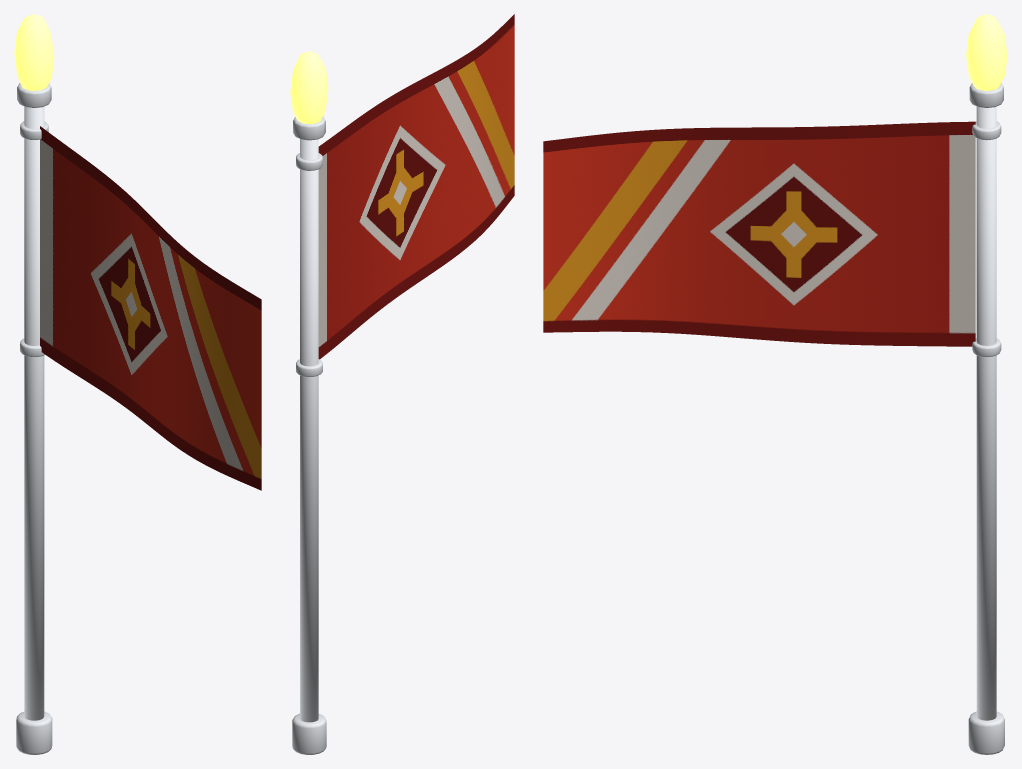
File: flag_red.glb
The picture shows the model from 3 angles, left to right: view 1: azimuth 30°, elevation 25°; view 2: azimuth 150°, elevation 25°; view 3: azimuth 270°, elevation 25°; orthographic projection. The views are drawn at different scales.
Parts seen in each view (by area): view 1: FlagCloth, PoleShaft, FinialDiamond, PoleBaseCollar, FinialBase; view 2: FlagCloth, PoleShaft, FinialDiamond, PoleBaseCollar, FinialBase; view 3: FlagCloth, PoleShaft, FinialDiamond, PoleBaseCollar.
Part boxes in pixels (box(x1,y1,x2,y2)): FlagCloth: box(40, 126, 261, 490); PoleShaft: box(24, 106, 44, 720); FinialDiamond: box(14, 14, 54, 90); PoleBaseCollar: box(16, 711, 52, 754); FinialBase: box(17, 83, 51, 107); FlagCloth: box(318, 14, 514, 359); PoleShaft: box(300, 139, 318, 722); FinialDiamond: box(290, 51, 328, 124); PoleBaseCollar: box(292, 713, 326, 754); FinialBase: box(293, 116, 325, 140); FlagCloth: box(543, 121, 975, 346); PoleShaft: box(976, 106, 996, 720); FinialDiamond: box(966, 14, 1007, 90); PoleBaseCollar: box(968, 711, 1004, 754).
Bounding box in the file's own units: 0.1875 × 3.66 × 2.09.
3 materials, 1 textured.
